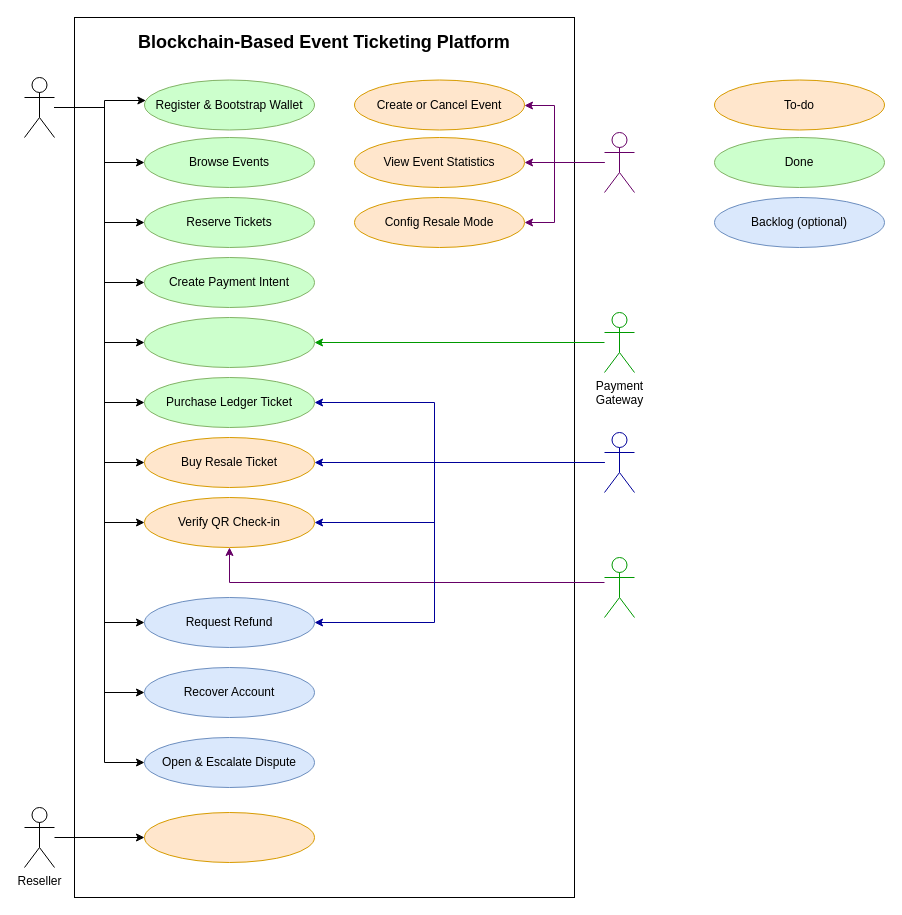
The diagram is 902 pixels wide and 915 high, and some of its shapes have lost their labels. The box of each missing label's shape, as (x1, y1, x2, y2) in pixels:
Buyer: (24, 76, 54, 138)
Confỉrm Payment Webhook: (144, 316, 314, 368)
Gate Staff: (604, 556, 634, 618)
List Ticket for Resale: (144, 812, 314, 862)
Local/Base Blockchain: (604, 432, 634, 492)
Orgainizer: (604, 132, 634, 192)
